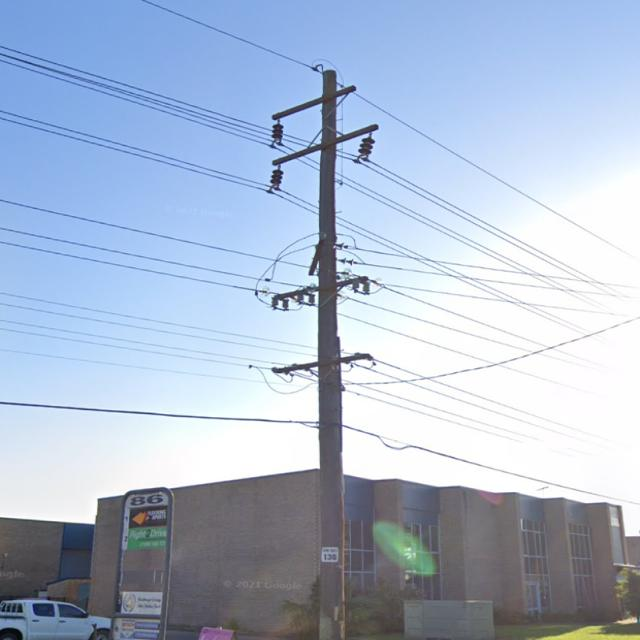HV-transmission: (267, 62, 379, 196), (258, 242, 385, 313)
crossarm: (272, 122, 377, 167), (271, 85, 357, 118), (270, 348, 370, 374), (274, 276, 369, 299), (309, 245, 319, 276)
timber-pole: (318, 69, 340, 632)
